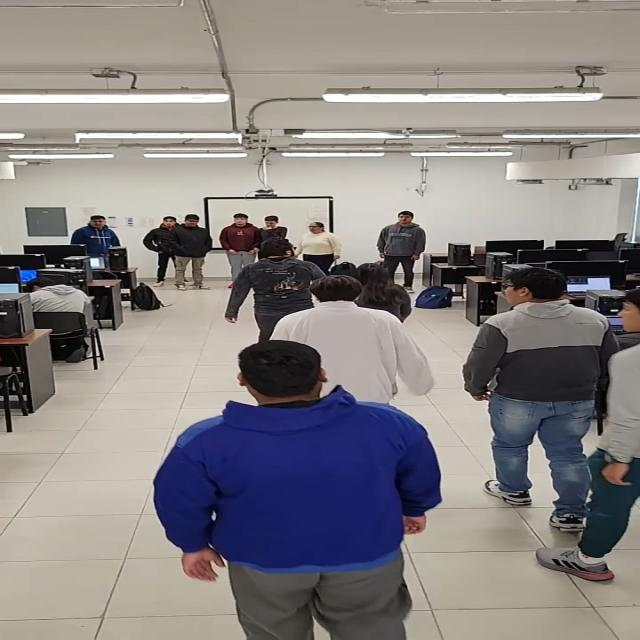Persona: (173, 338, 419, 638), (496, 270, 608, 544), (301, 272, 413, 391), (244, 237, 308, 332), (174, 212, 209, 292), (382, 206, 421, 276), (222, 210, 258, 281), (75, 213, 124, 250), (144, 216, 174, 276), (302, 220, 337, 263), (259, 213, 283, 238)
